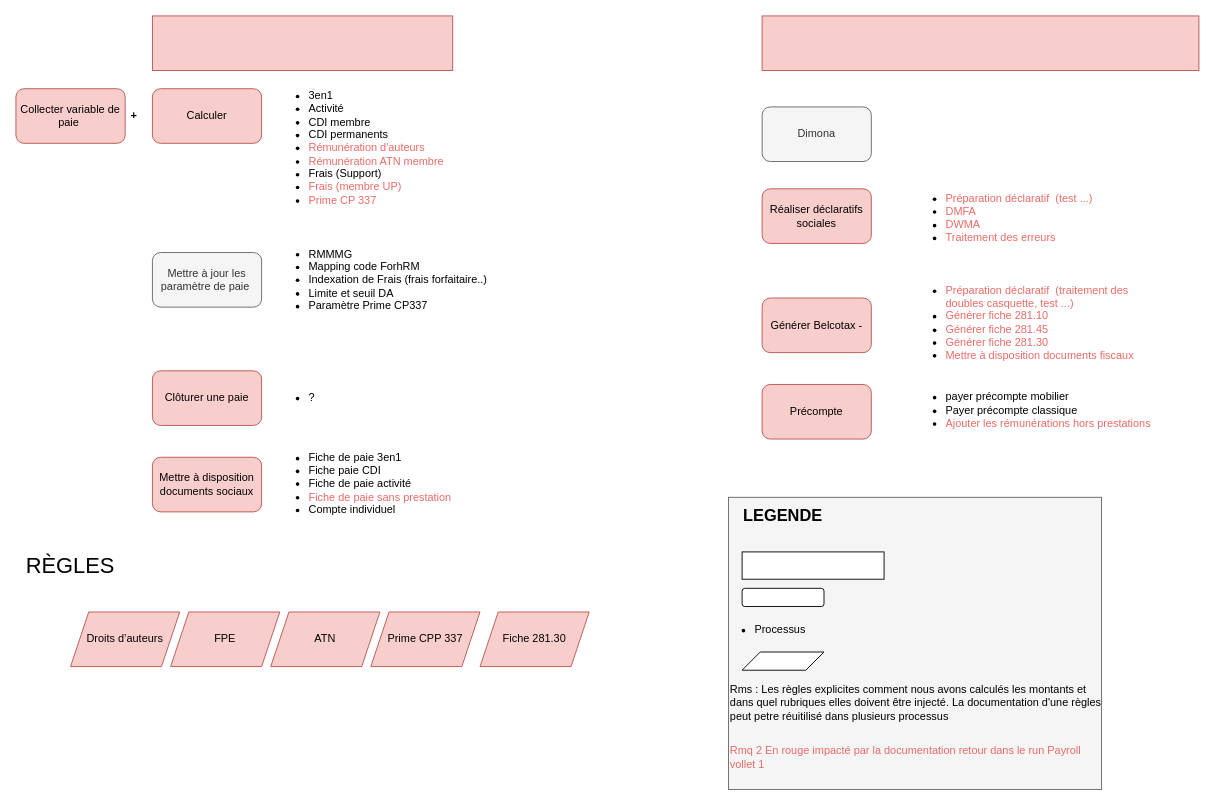
This 1215x805 diagram has some shape labels left out. The centre of each missing label's shape, as x and y in pixels:
"Capabilité" belongs at [812,565].
"Gr . Processus" belongs at [782,597].
"Gérer les déclarations sociales et fiscales" belongs at [980,43].
"Produire la paie" belongs at [302,43].
"Règle" belongs at [782,660].
